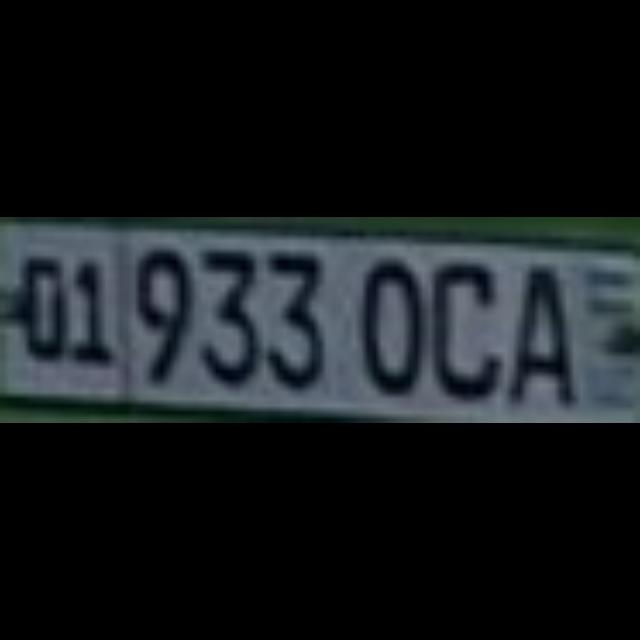0: (14, 252, 62, 354)
1: (63, 252, 104, 354)
3: (262, 244, 316, 390), (192, 244, 248, 382)
9: (130, 237, 186, 375)
A: (502, 258, 572, 404)
C: (420, 251, 496, 389)
O: (358, 251, 420, 389)
